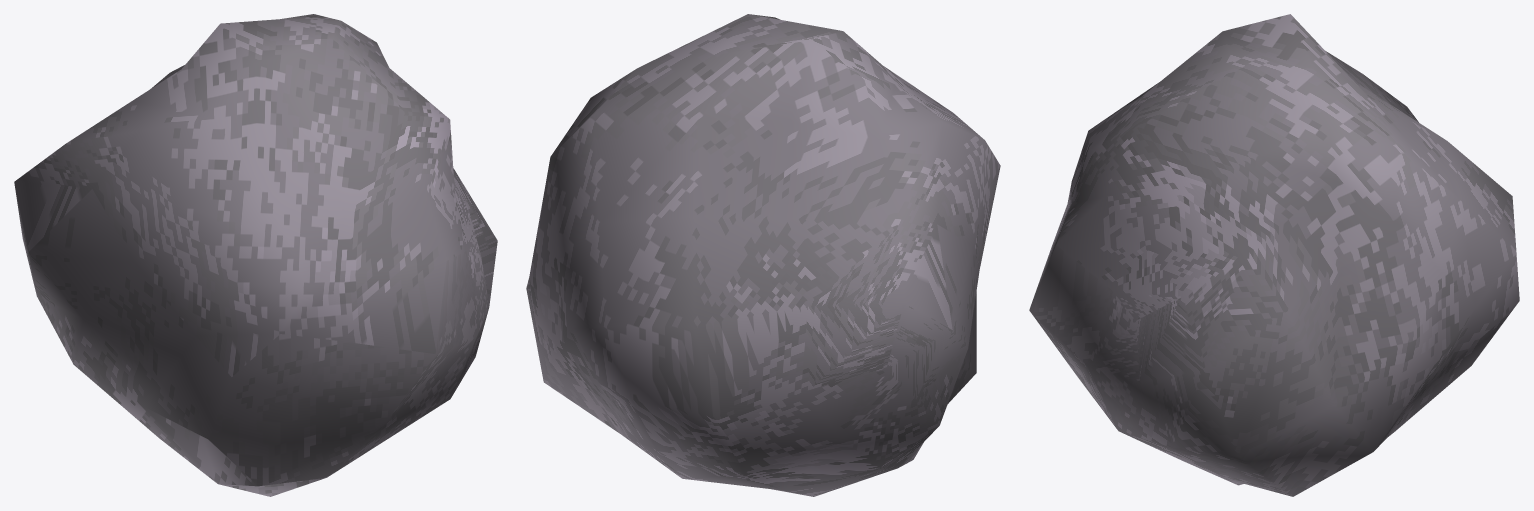
Rendered from Piedra.fbx.
3 views of the same model, side by side, from view 1: azimuth 30°, elevation 25°; view 2: azimuth 150°, elevation 25°; view 3: azimuth 270°, elevation 25° (orthographic). The views are drawn at different scales.
Visible parts, largest first — view 1: Piedra; view 2: Piedra; view 3: Piedra.
Boxes of the visible parts, <box> form: Piedra: <box>14,14,497,496</box>; Piedra: <box>526,14,1000,496</box>; Piedra: <box>1029,14,1519,496</box>.
Size of the model in its own units: 263 by 278 by 276.
Materials: 1 (1 with a texture image).
